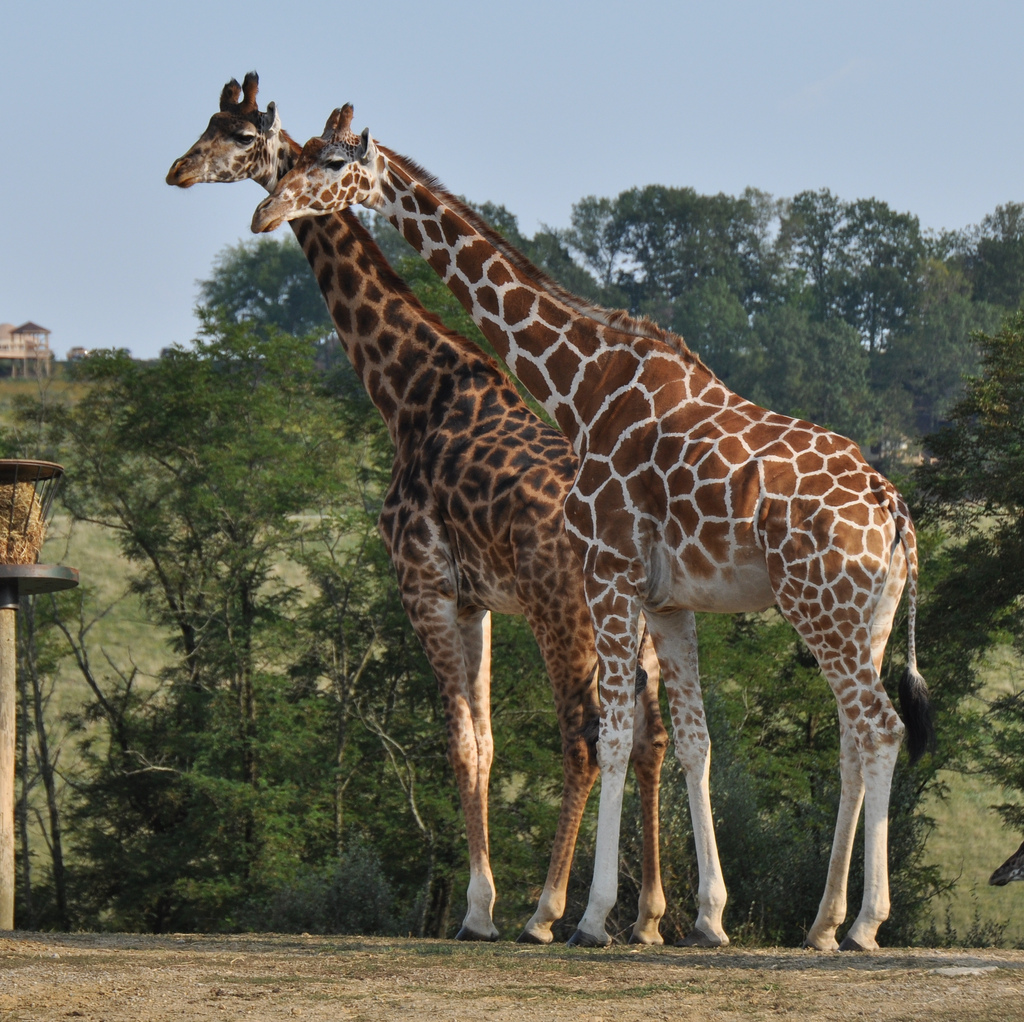giraffe: (268, 126, 968, 933), (162, 87, 635, 939)
